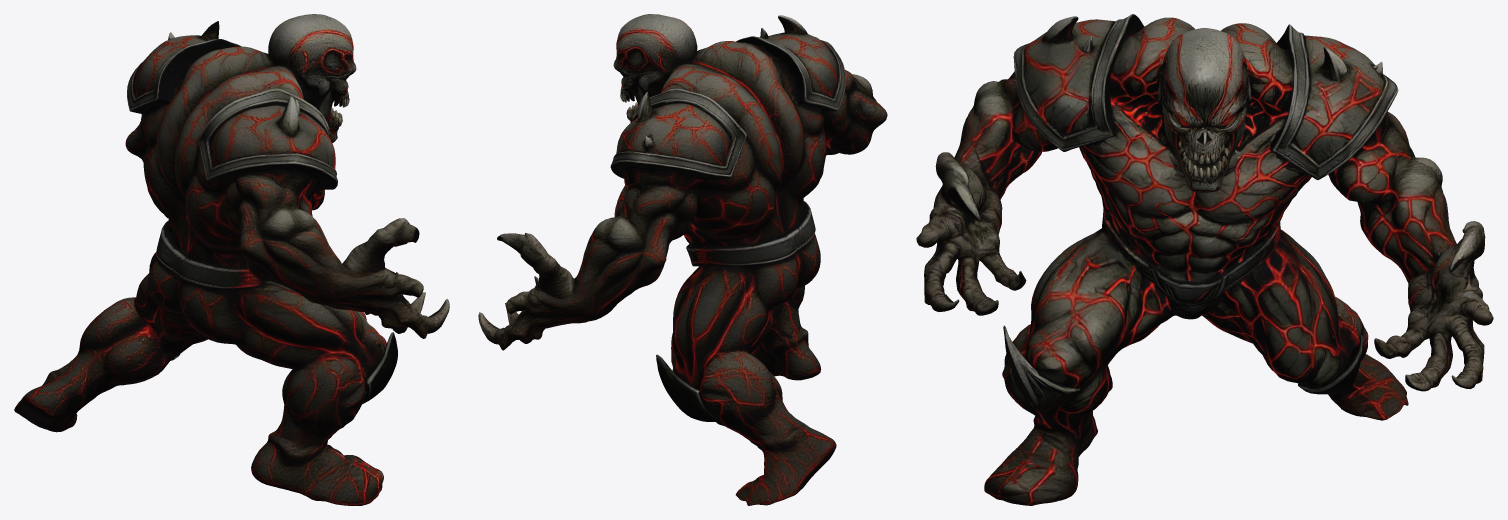
The model's file is deathstorm3dskin2.glb.
3 views of the same model, side by side, from view 1: azimuth 30°, elevation 25°; view 2: azimuth 150°, elevation 25°; view 3: azimuth 270°, elevation 25° (orthographic). The views are drawn at different scales.
Parts seen in each view (by area): view 1: tripo_node_8715c497-bb56-470b-9de6-0a2b6a578fb0; view 2: tripo_node_8715c497-bb56-470b-9de6-0a2b6a578fb0; view 3: tripo_node_8715c497-bb56-470b-9de6-0a2b6a578fb0.
Part boxes in pixels (x1=…): tripo_node_8715c497-bb56-470b-9de6-0a2b6a578fb0: x1=14, y1=14, x2=449, y2=505; tripo_node_8715c497-bb56-470b-9de6-0a2b6a578fb0: x1=478, y1=14, x2=887, y2=505; tripo_node_8715c497-bb56-470b-9de6-0a2b6a578fb0: x1=916, y1=14, x2=1493, y2=505.
Bounding box in the file's own units: 0.7401 × 0.9151 × 1.
Materials: 1 (1 with a texture image).
